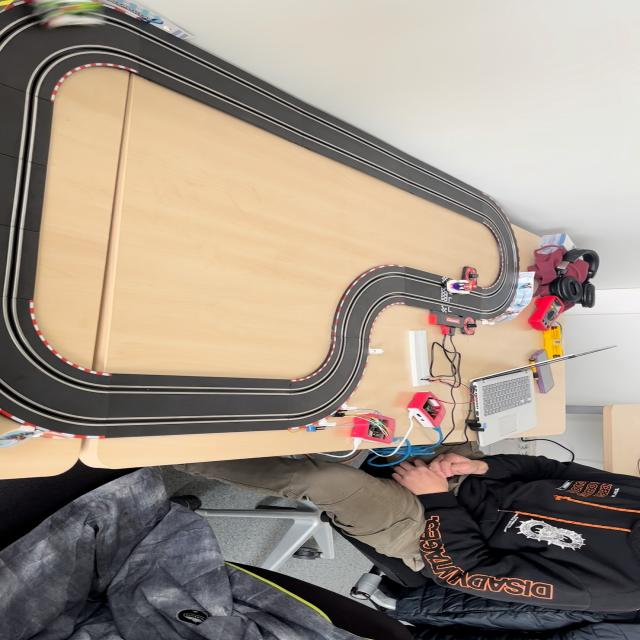mario: (444, 279, 478, 296)
yoshi: (30, 0, 110, 31)
